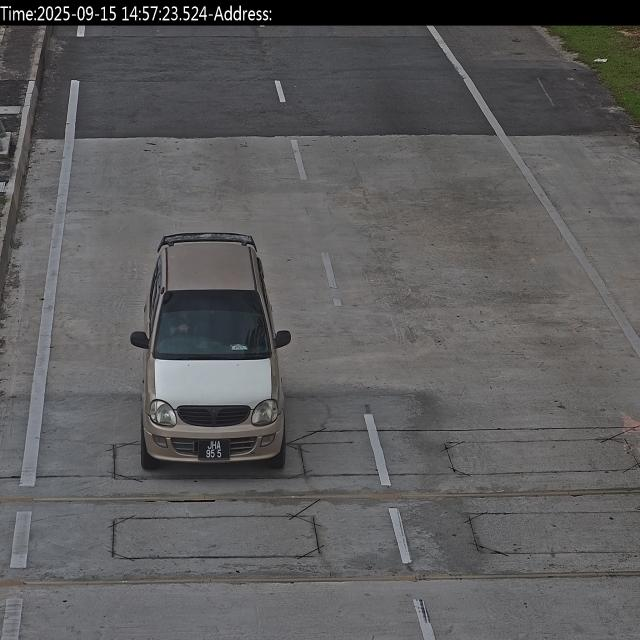front: (198, 438, 234, 462)
